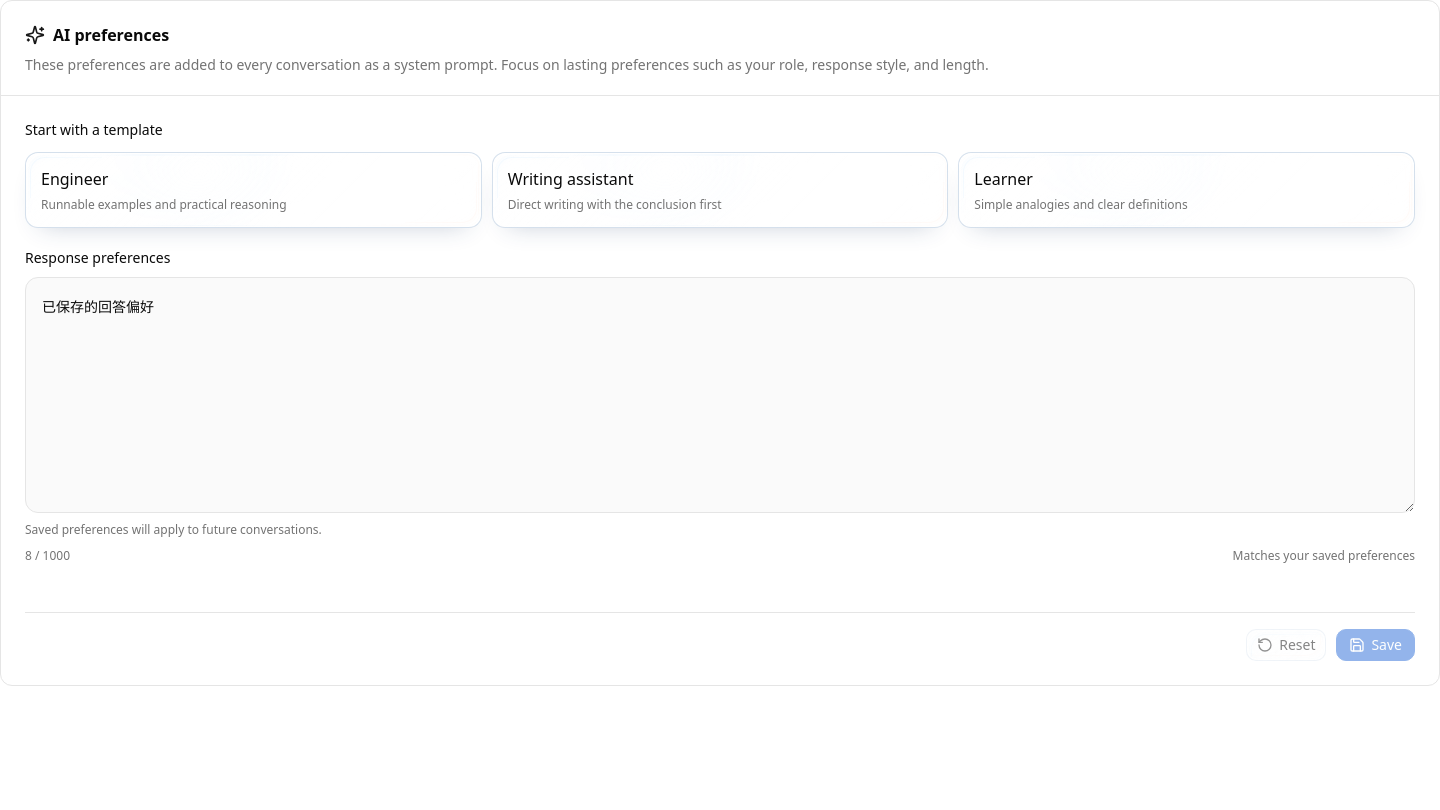
SystemPrompt 个性化编辑 › 英文界面套用英文模板，按钮状态仍与草稿一致
This screenshot has width=1440, height=810.
Click the button "Writing assistant" at (720, 190), box [492,152,948,228]
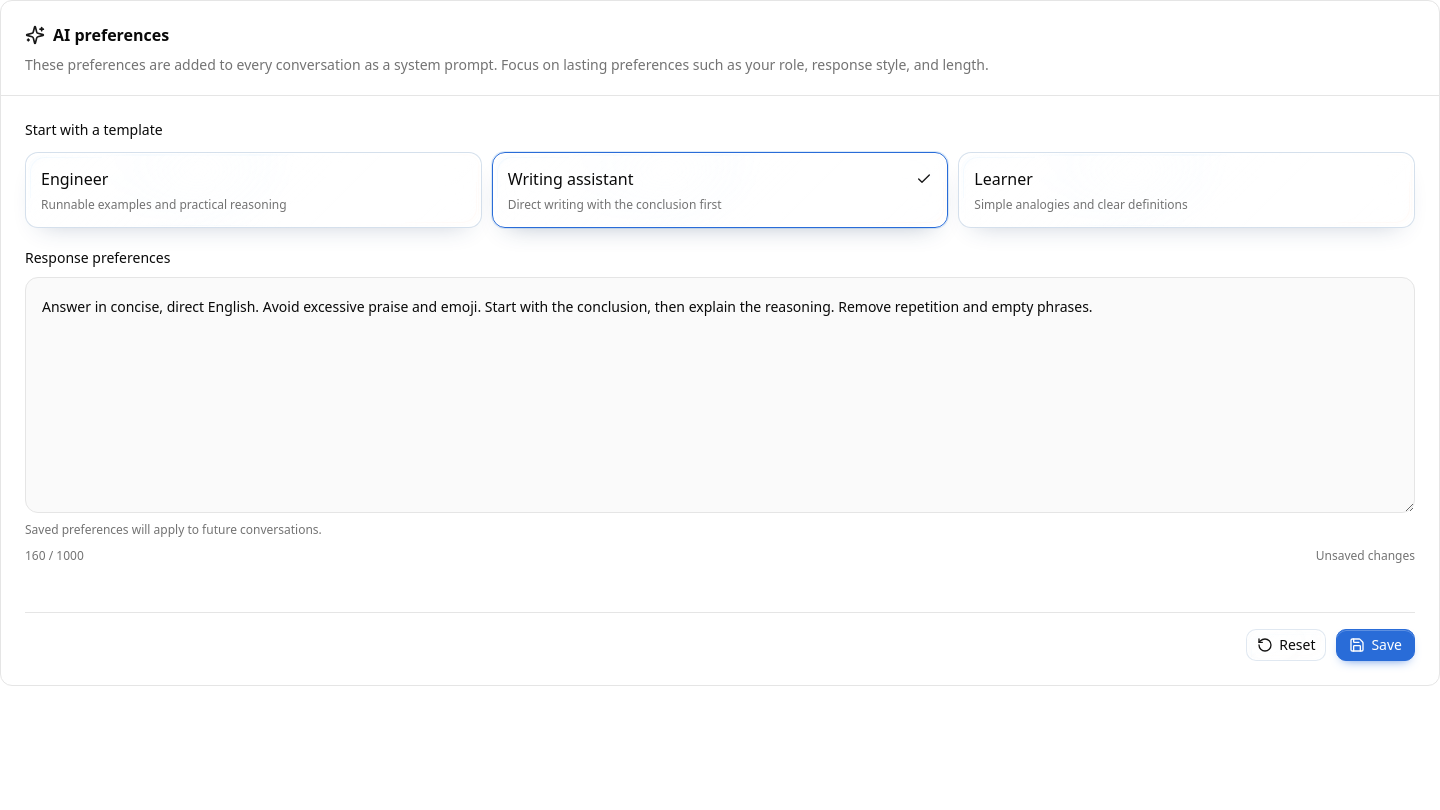
Now the text box labelled "Response preferences" holds "Answer in concise, direct English. Avoid excessive praise and emoji. Start with the conclusion, then explain the reasoning. Remove repetition and empty phrases.", box [25,277,1415,512]
Now the button "Save" is enabled, box [1336,628,1415,660]
